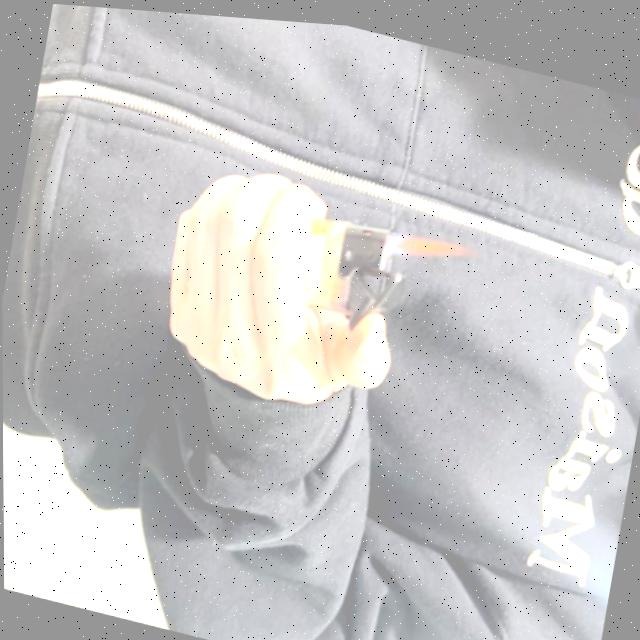Fire: (383, 219, 473, 267)
